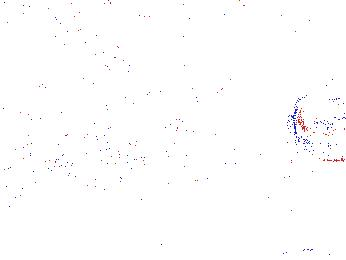moon jellyfish: (103, 14, 196, 82), (107, 92, 179, 178), (236, 24, 316, 90), (292, 80, 346, 163), (186, 20, 239, 101)
